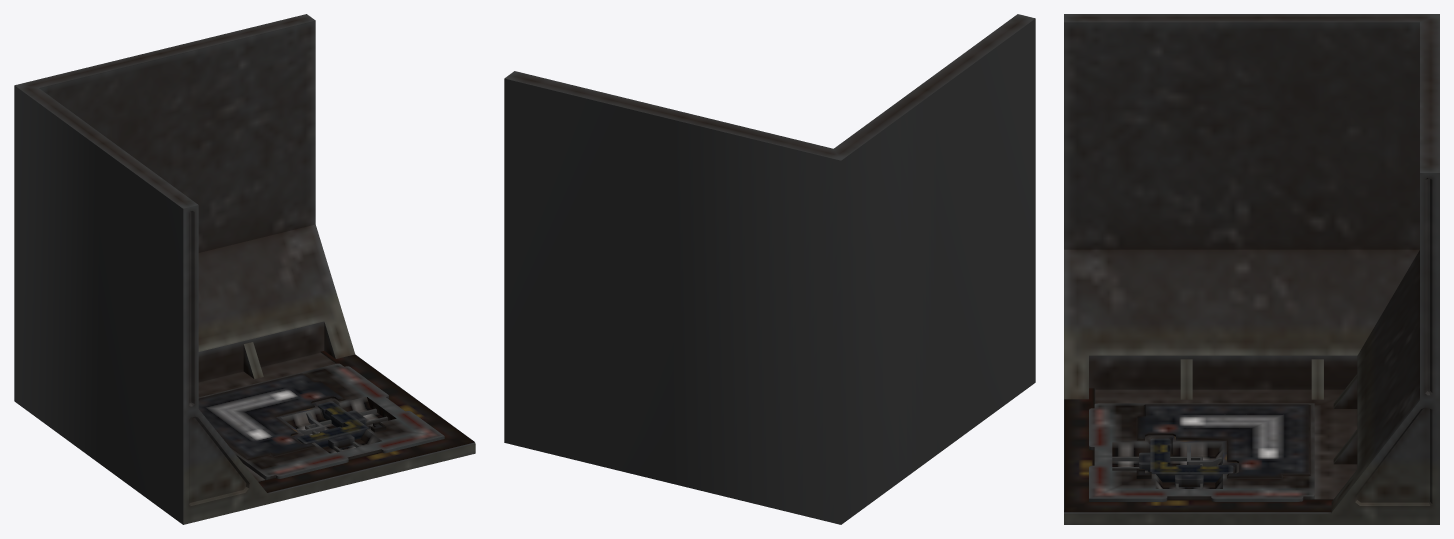
The model's file is Wall-Floor_05_Corner_in_1.FBX.
3 views of the same model, side by side, from view 1: azimuth 30°, elevation 25°; view 2: azimuth 150°, elevation 25°; view 3: azimuth 270°, elevation 25° (orthographic). The views are drawn at different scales.
Parts seen in each view (by area): view 1: Wall-Floor_05; view 2: Wall-Floor_05; view 3: Wall-Floor_05.
Part boxes in pixels (<box>): Wall-Floor_05: <box>14,14,475,524</box>; Wall-Floor_05: <box>504,14,1035,524</box>; Wall-Floor_05: <box>1064,14,1439,524</box>.
Bounding box in the file's own units: 300 × 310 × 300.
